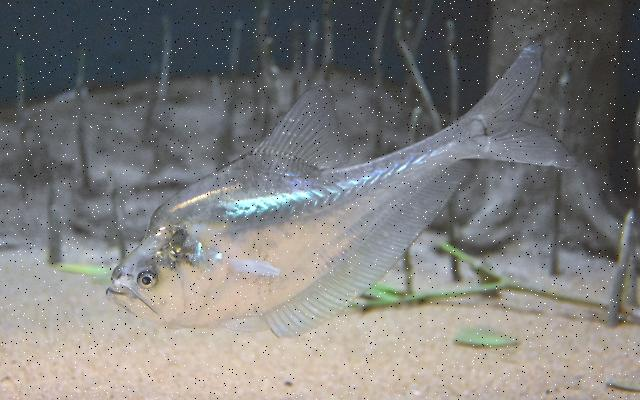Mulut: (96, 257, 154, 331)
Sirip Anal: (267, 155, 475, 344)
Sirip Dada: (212, 244, 292, 288)
Sirip Ekor: (474, 30, 584, 181)
Sirip Perut: (216, 310, 274, 340)
Sirip Punggung: (258, 78, 358, 176)
